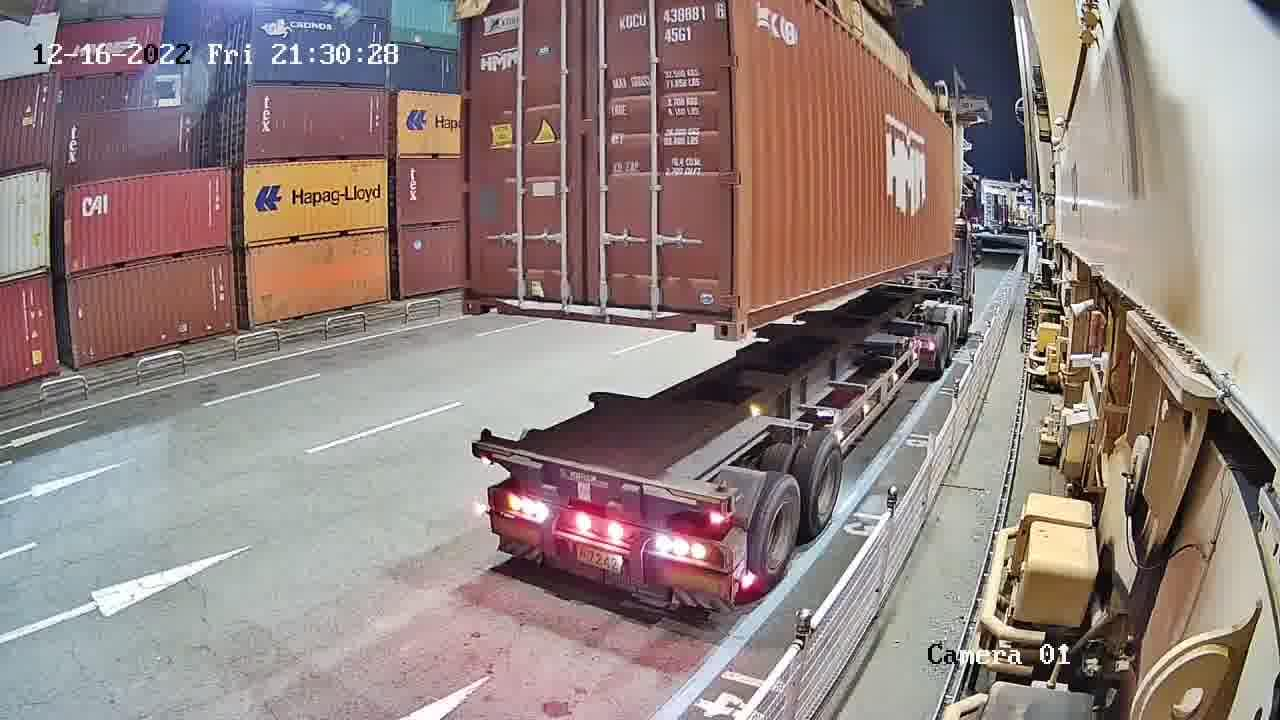Chassis: (474, 447, 731, 544)
Container: (461, 280, 738, 341)
Hole_L: (737, 289, 767, 341), (459, 280, 492, 314)
Hole_R: (706, 292, 738, 340)
Tire: (749, 476, 802, 593), (805, 439, 847, 543)
